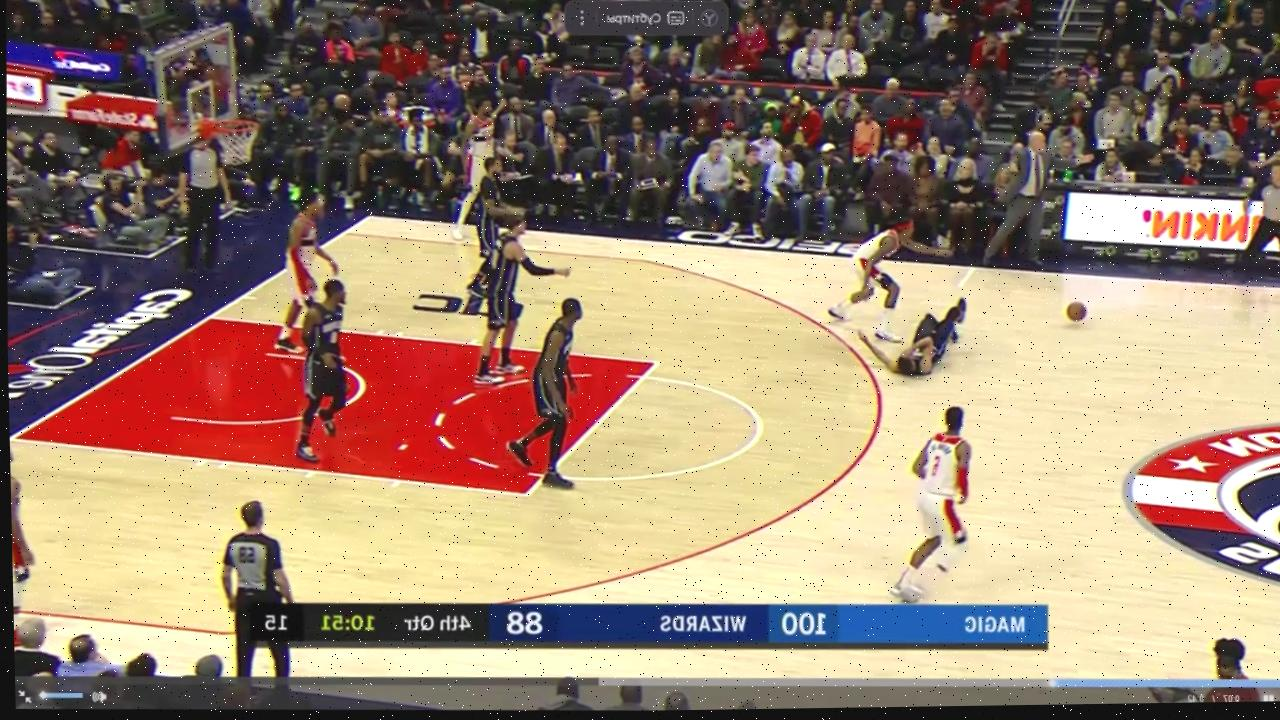foul: (810, 210, 986, 383)
